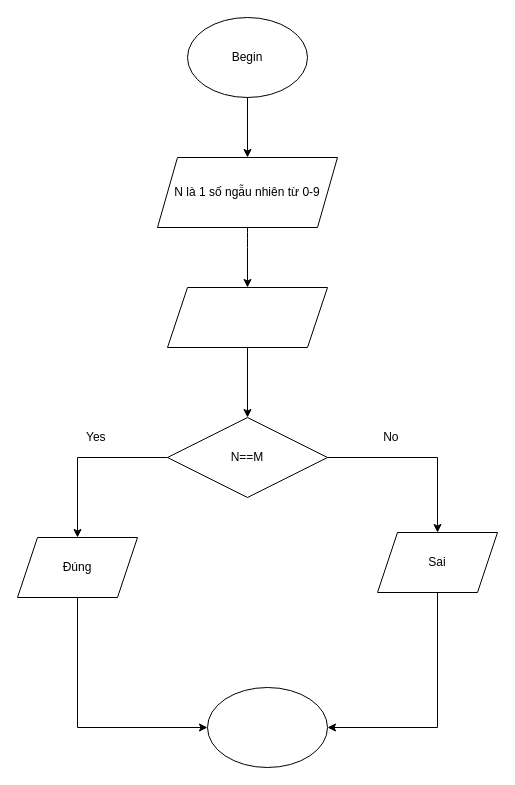
Some shapes in this 515 by 785 pixel diagram are drawn without their labels. Each missing label, with the box of its shape:
End: (206, 686, 328, 768)
Nhập M: (166, 286, 328, 348)
